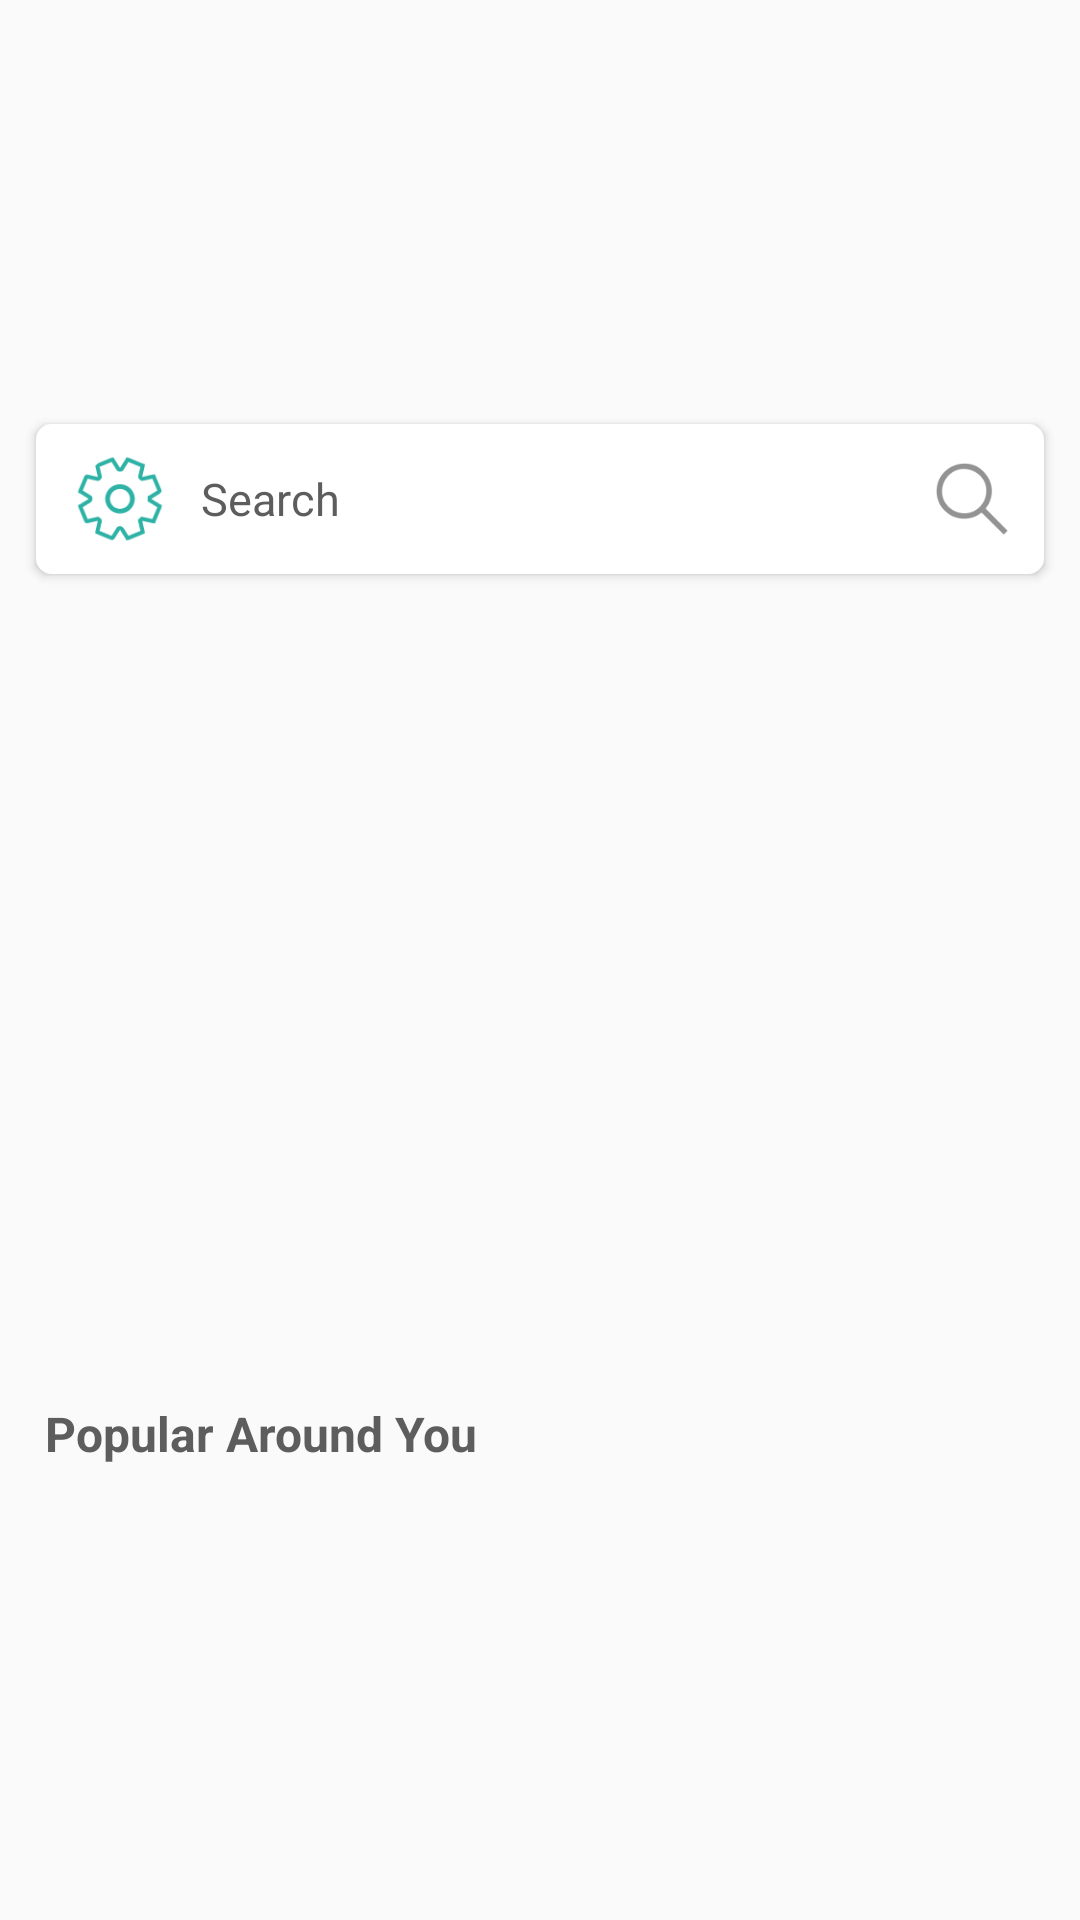

Where to tap for icons on this 1080*1920 app screen, as [x,y]:
setting: [120,499]
